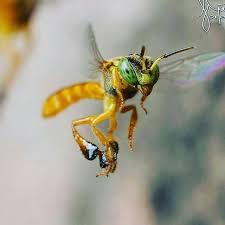jataí: (33, 14, 202, 197)
